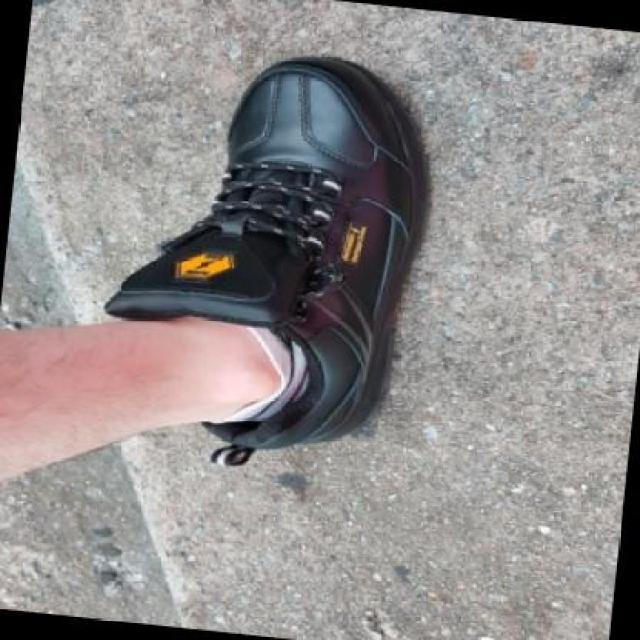Safety Boots: (105, 58, 428, 465)
